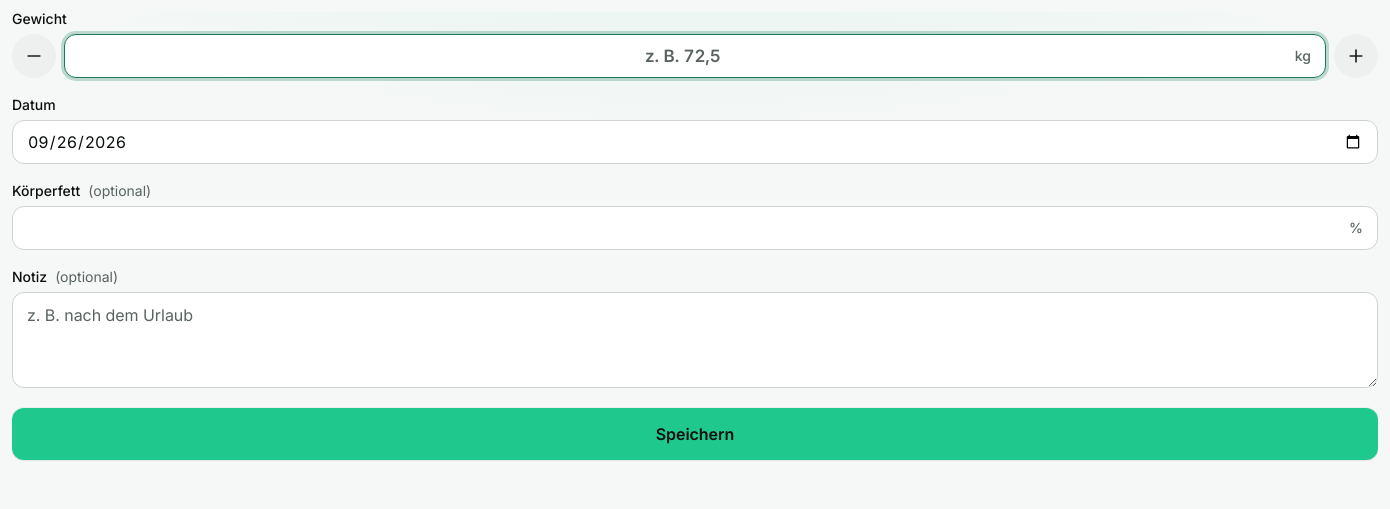
LogWeightForm validation › rejects implausible weights
Type "8,3" into the field labelled "Gewicht".
click(683, 56); type("8,3")  # box [79,35,1287,77]
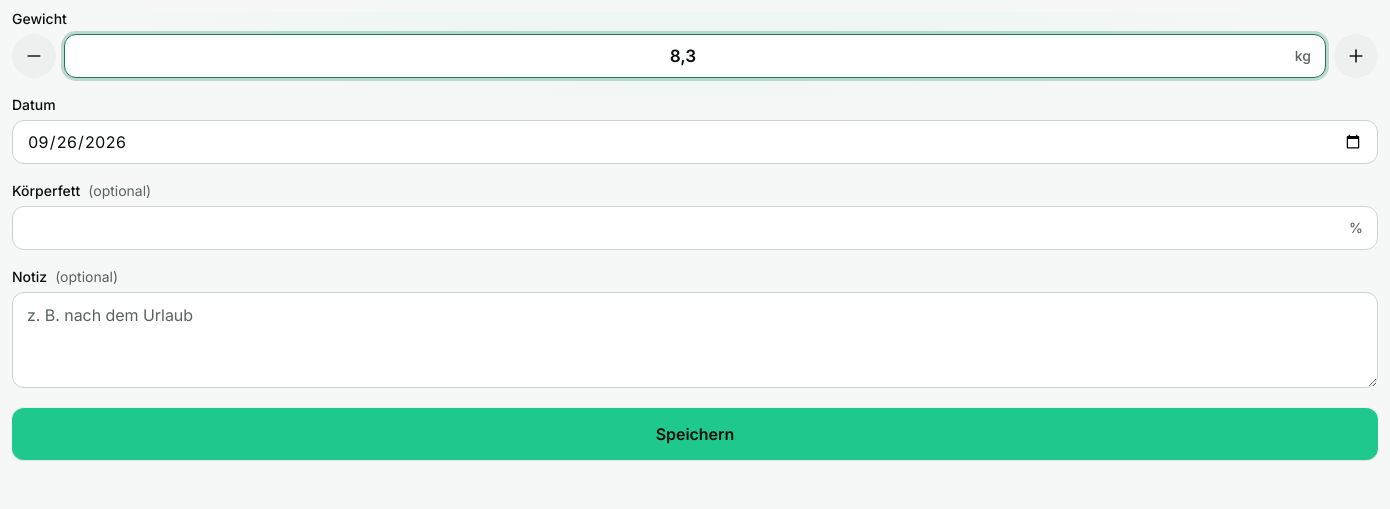
Click the button "Speichern".
click(695, 434)  # box [12,408,1378,460]
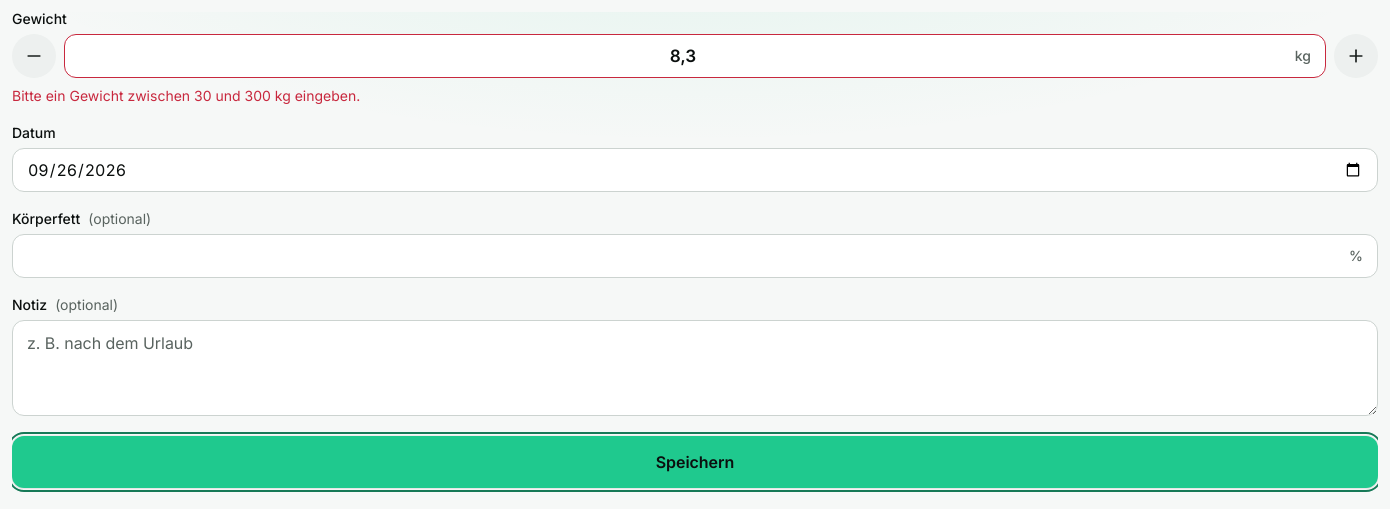
Expected: the message shows "zwischen 30 und 300 kg", [12,87,360,104]
